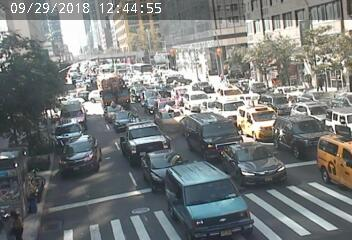car: (166, 168, 226, 220), (232, 148, 281, 183), (195, 122, 242, 152), (244, 107, 281, 139), (321, 140, 352, 176), (122, 121, 156, 148), (282, 122, 317, 148), (67, 141, 97, 168), (100, 80, 126, 104), (206, 96, 238, 114), (144, 151, 171, 172), (154, 109, 180, 125), (325, 115, 352, 130), (56, 124, 80, 137), (264, 93, 286, 107), (65, 98, 82, 116), (298, 105, 322, 116), (188, 94, 206, 104), (114, 112, 131, 122), (219, 82, 236, 92), (139, 93, 160, 101), (134, 63, 152, 71), (104, 104, 116, 113), (195, 84, 210, 91), (154, 100, 170, 105)
